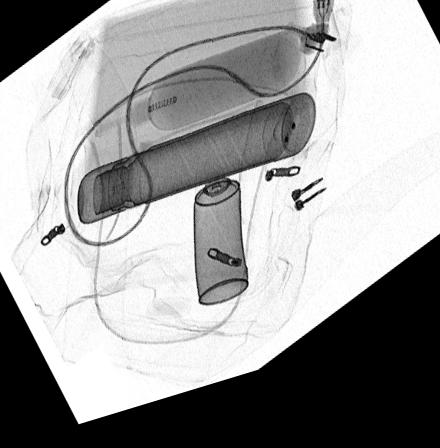Sprayer: (192, 165, 248, 317)
